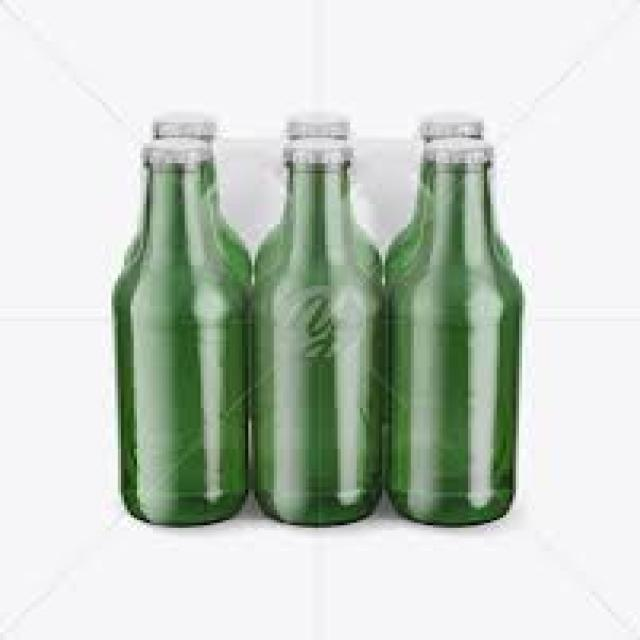glass: (112, 163, 249, 525), (379, 161, 513, 525), (249, 163, 373, 523), (379, 135, 506, 306), (121, 135, 248, 281), (251, 138, 379, 275), (382, 141, 506, 276)
metal: (277, 135, 350, 168), (408, 112, 478, 143), (134, 135, 207, 161), (274, 112, 341, 138), (420, 135, 487, 158), (147, 112, 210, 135)
